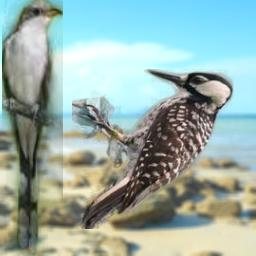Cuckoo: (2, 0, 63, 256)
Woodpecker: (72, 69, 234, 229)
